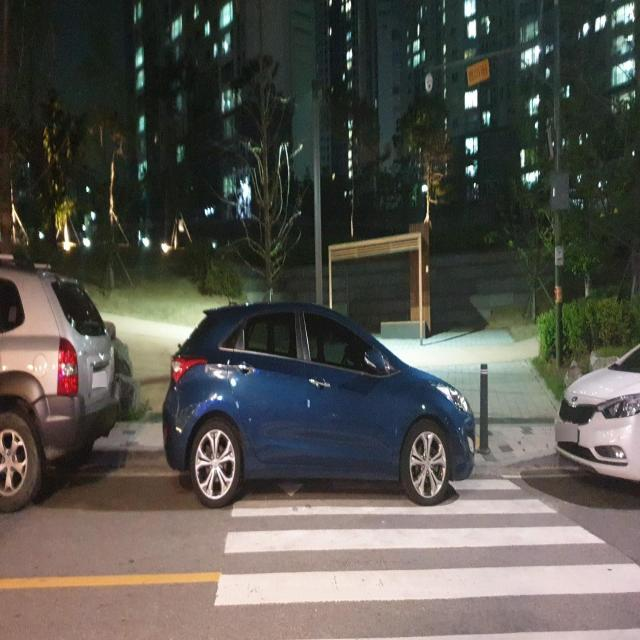횡단보도: (212, 476, 640, 640)
